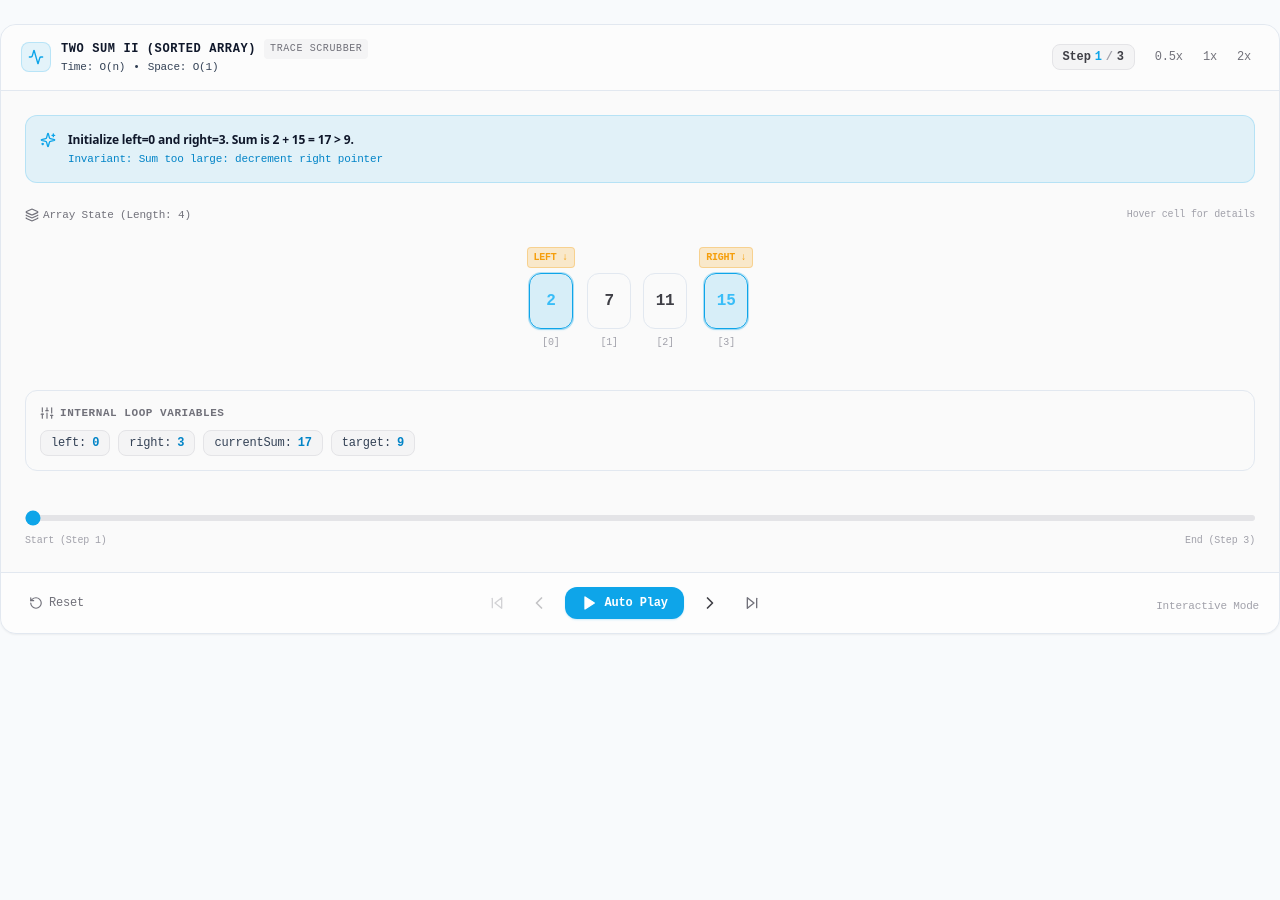
it: AlgorithmTraceScrubber Component › navigates to the end on Last Step click and resets on Reset click
Click the button titled "Last Step".
click(752, 602)  # box top-left (736, 586), bottom-right (768, 618)
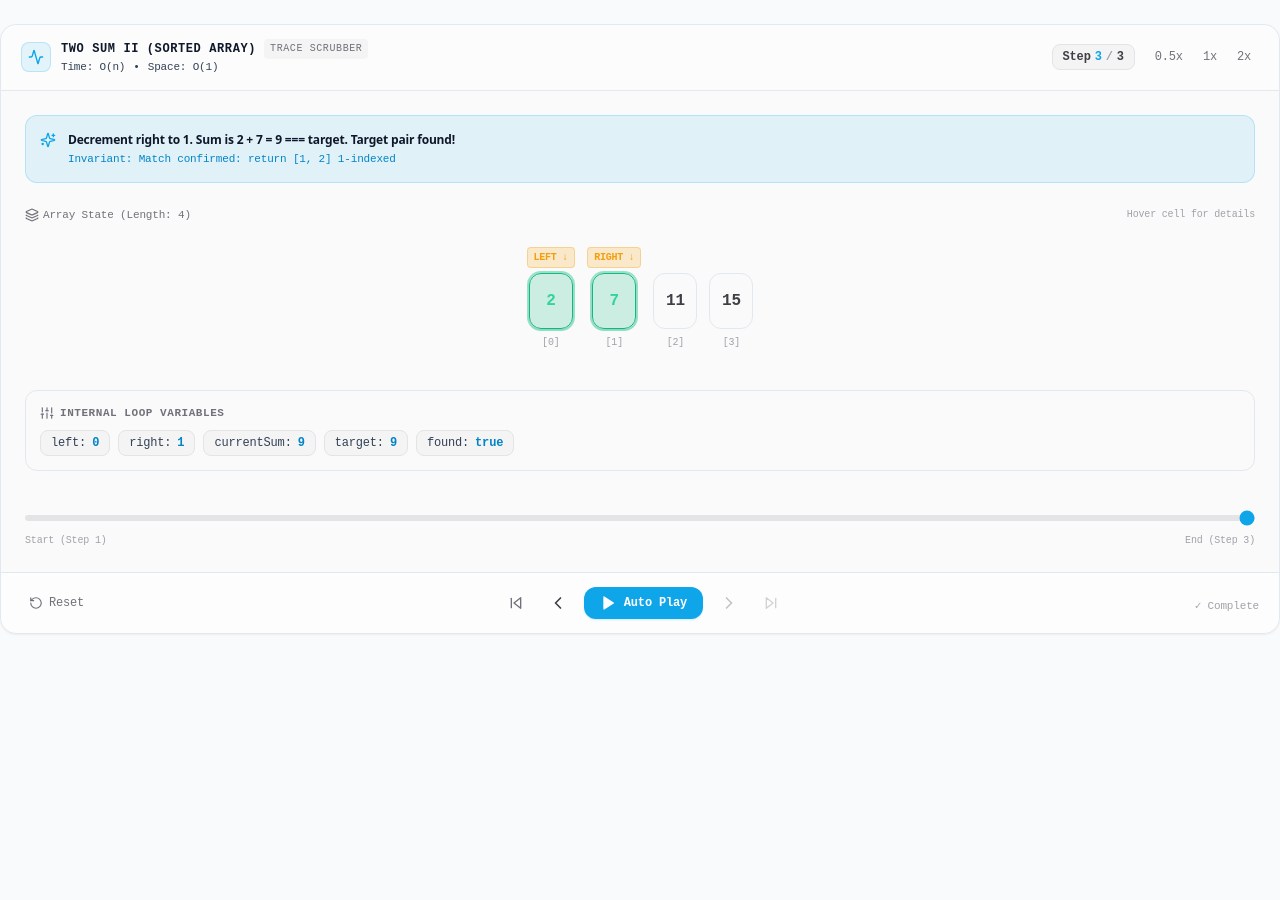
Check: the text "Invariant: Match confirmed: return [1, 2] 1-indexed" is shown, box top-left (68, 153), bottom-right (396, 165)
Click the button titled "Reset to Step 1".
click(57, 602)  # box top-left (21, 586), bottom-right (92, 618)
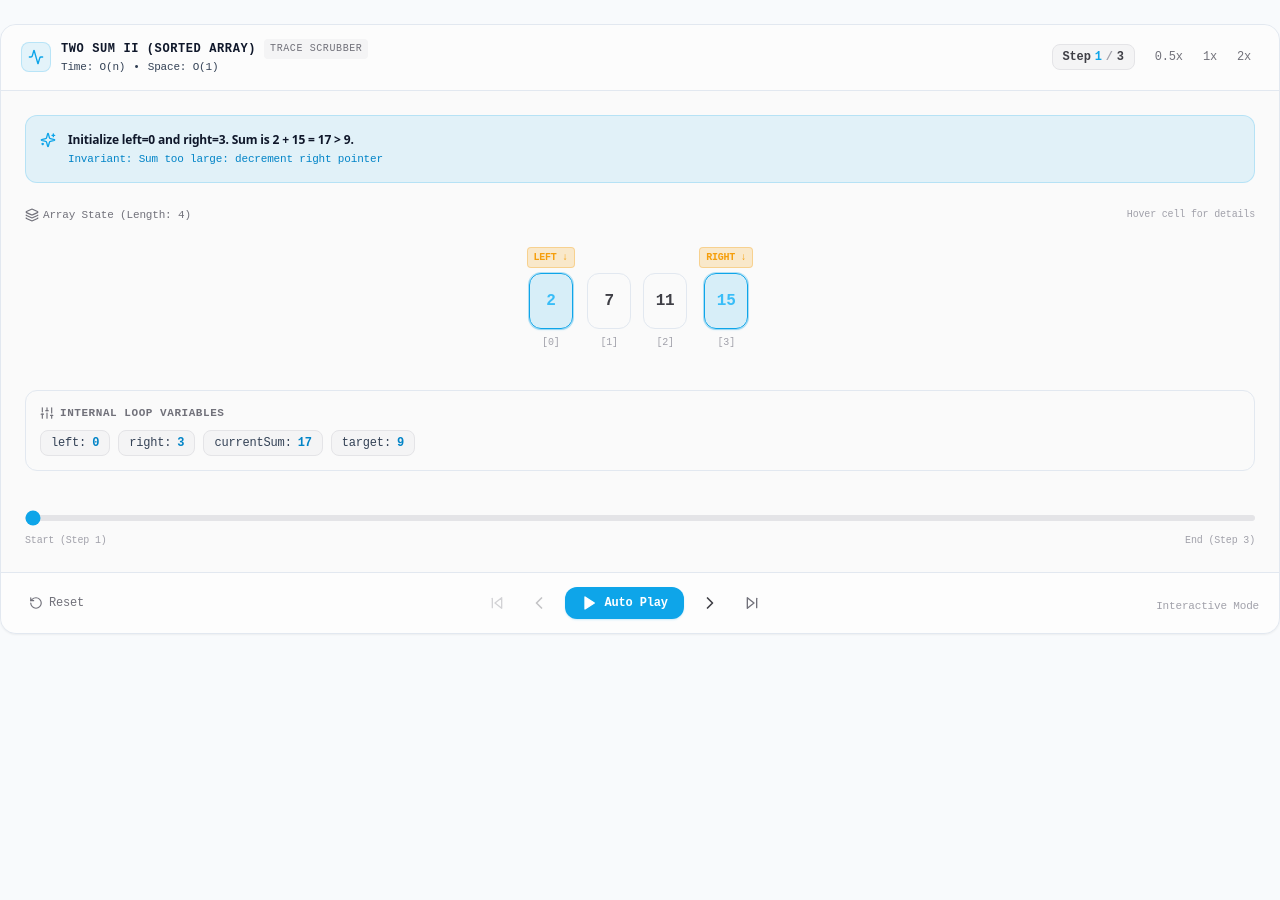
Check: the text "Initialize left=0 and right=3. Sum is 2 + 15 = 17 > 9." is shown, box top-left (68, 130), bottom-right (383, 149)
